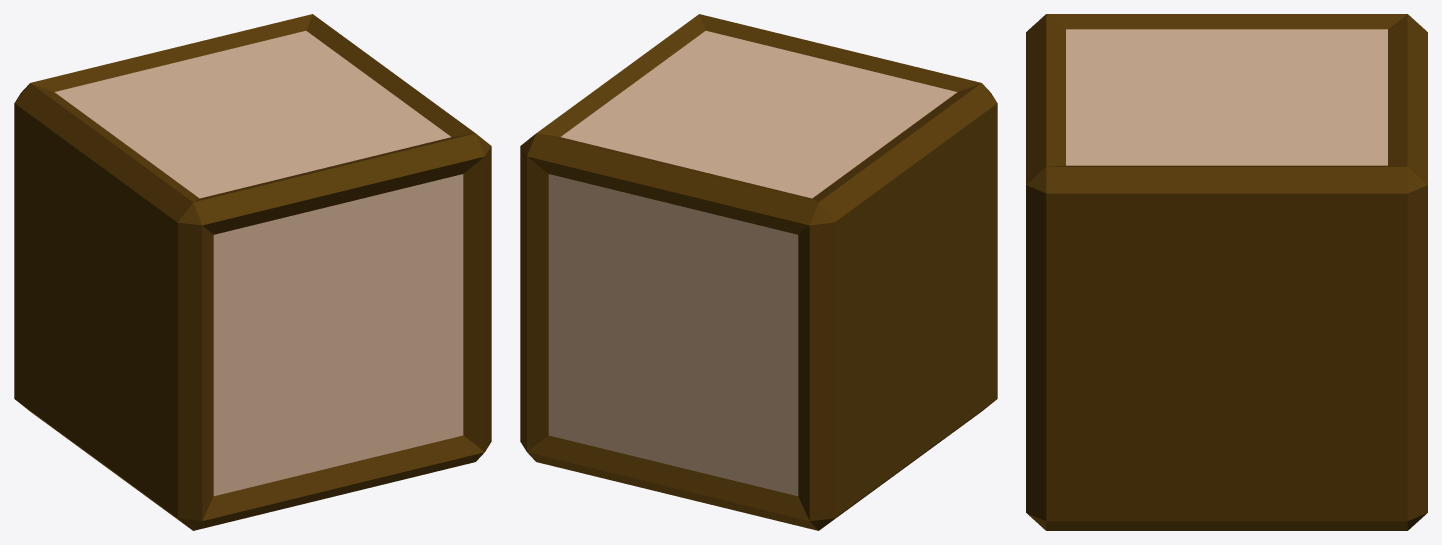
The model's file is Wooden_Box.fbx.
3 views of the same model, side by side, from view 1: azimuth 30°, elevation 25°; view 2: azimuth 150°, elevation 25°; view 3: azimuth 270°, elevation 25° (orthographic). The views are drawn at different scales.
Visible parts, largest first — view 1: pCube7; view 2: pCube7; view 3: pCube7.
Boxes of the visible parts, bbox=[...] form: pCube7: bbox=[14, 14, 491, 530]; pCube7: bbox=[520, 14, 997, 530]; pCube7: bbox=[1026, 14, 1427, 530].
Bounding box in the file's own units: 7.33 × 7.33 × 7.33.
